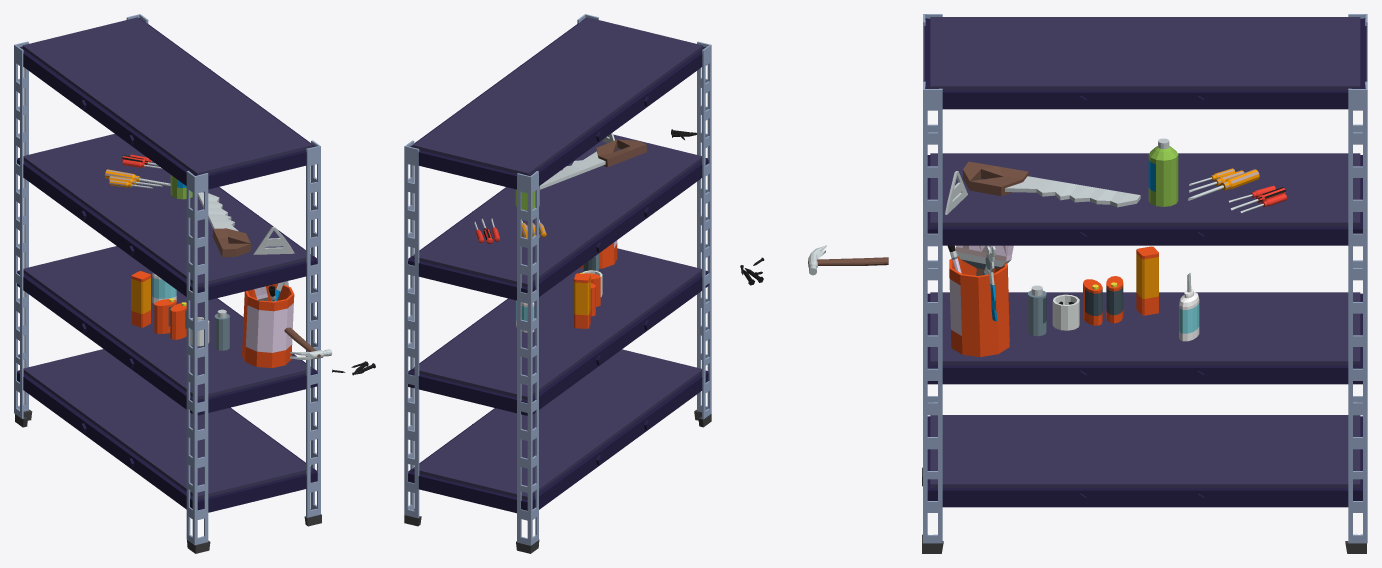
Rendered from Decors_4.glb.
3 views of the same model, side by side, from view 1: azimuth 30°, elevation 25°; view 2: azimuth 150°, elevation 25°; view 3: azimuth 270°, elevation 25° (orthographic). The views are drawn at different scales.
Visible parts, largest first — view 1: Shelf_Cube.004, propTools1, Hand Saw, group348818362, group1673330486.063, oilProps, group1903879849, group1677974325, group634296461, Glue; view 2: Shelf_Cube.004, Hand Saw, group348818362, propTools1; view 3: Shelf_Cube.004, propTools1, Hand Saw, group1416475030, group348818362, Glue, Paint Brush, group1115598653, oilProps, group634296461, group1677974325, group1903879849.
Part boxes in pixels (x1=…): Shelf_Cube.004: x1=14, y1=14, x2=321, y2=553; propTools1: x1=242, y1=283, x2=294, y2=368; Hand Saw: x1=197, y1=192, x2=250, y2=257; group348818362: x1=131, y1=271, x2=150, y2=327; group1673330486.063: x1=253, y1=227, x2=294, y2=254; oilProps: x1=214, y1=309, x2=229, y2=350; group1903879849: x1=154, y1=299, x2=176, y2=333; group1677974325: x1=170, y1=303, x2=186, y2=339; group634296461: x1=284, y1=327, x2=332, y2=359; Glue: x1=152, y1=273, x2=176, y2=303; Shelf_Cube.004: x1=404, y1=14, x2=711, y2=553; Hand Saw: x1=540, y1=139, x2=646, y2=189; group348818362: x1=574, y1=273, x2=590, y2=328; propTools1: x1=580, y1=240, x2=617, y2=268; Shelf_Cube.004: x1=922, y1=14, x2=1367, y2=553; propTools1: x1=949, y1=255, x2=1009, y2=356; Hand Saw: x1=963, y1=161, x2=1140, y2=207; group1416475030: x1=1148, y1=138, x2=1178, y2=206; group348818362: x1=1136, y1=246, x2=1158, y2=315; Glue: x1=1179, y1=273, x2=1199, y2=341; Paint Brush: x1=956, y1=245, x2=1013, y2=275; group1115598653: x1=1052, y1=294, x2=1079, y2=330; oilProps: x1=1027, y1=285, x2=1046, y2=336; group634296461: x1=808, y1=245, x2=888, y2=275; group1677974325: x1=1083, y1=279, x2=1102, y2=325; group1903879849: x1=1106, y1=276, x2=1123, y2=323.
Size of the model in its own units: 1.18 by 3.31 by 4.05.
